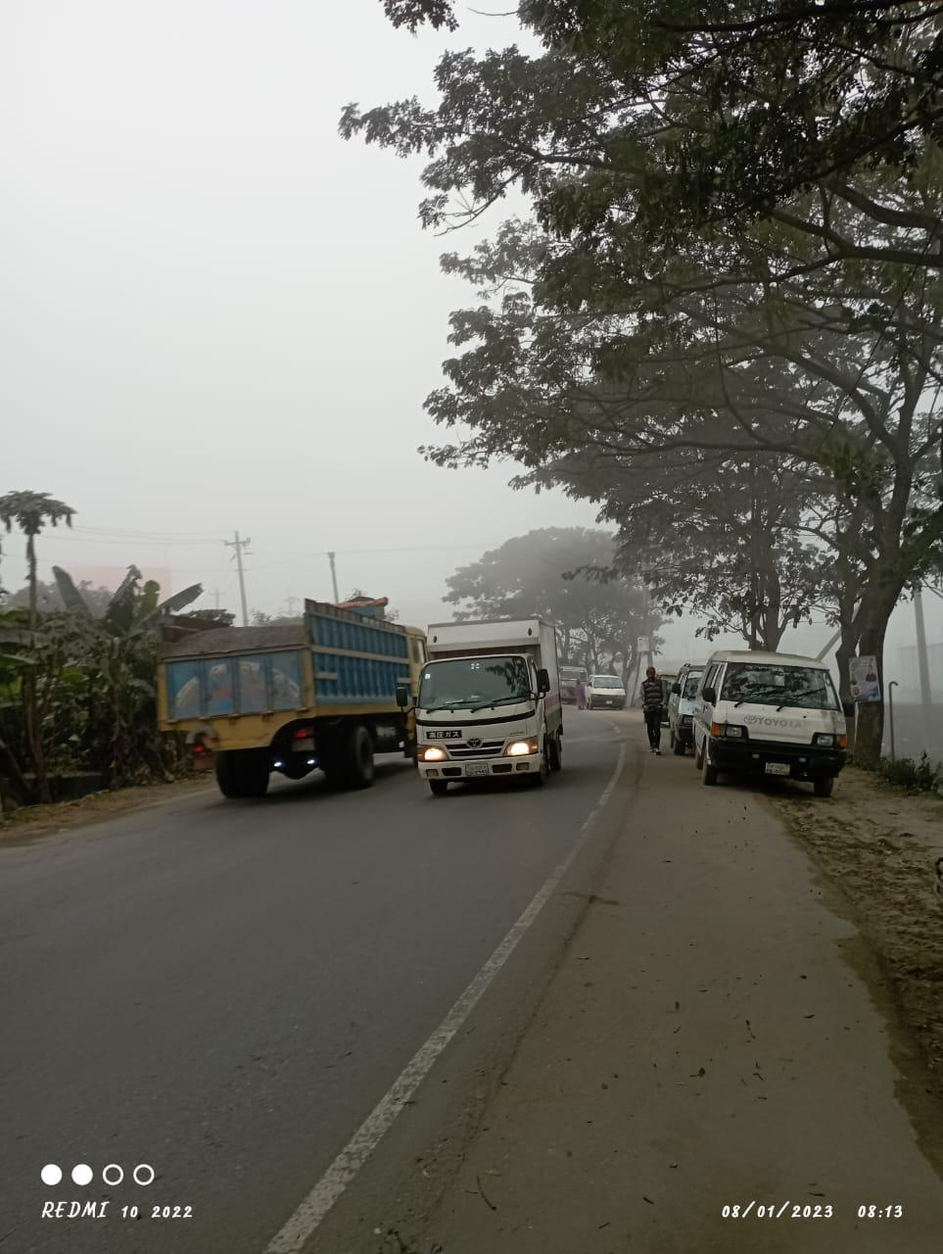Car: (695, 648, 859, 796), (584, 669, 633, 710)
Truck: (143, 595, 417, 784), (408, 612, 580, 793)
